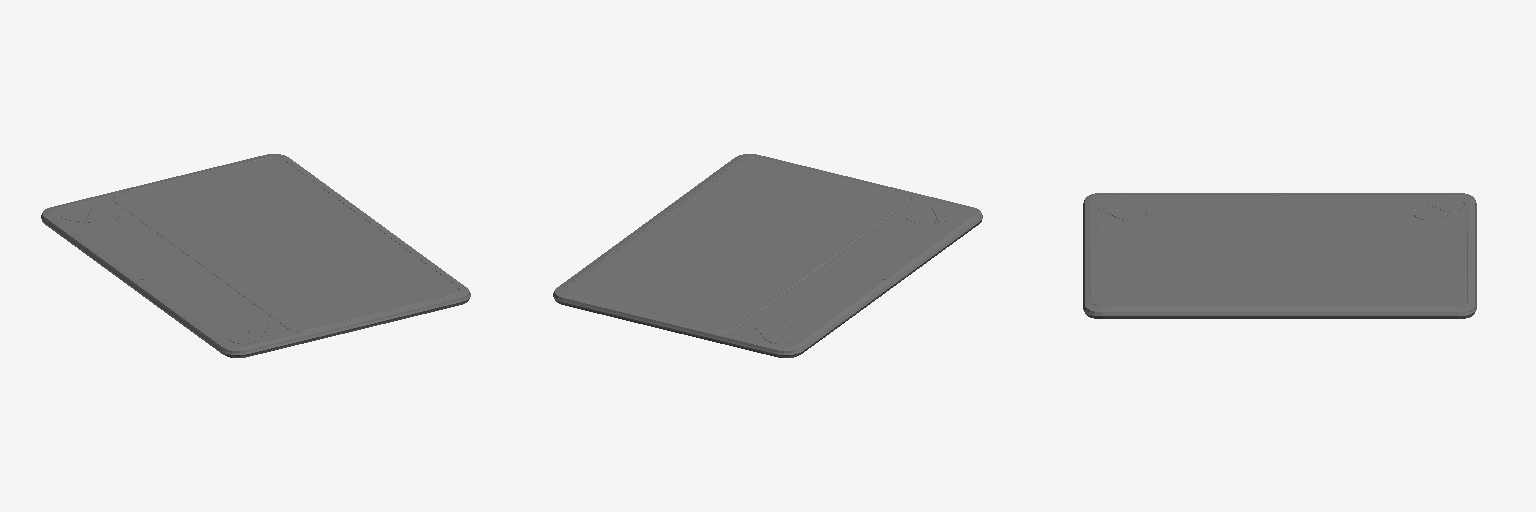
The model's file is tablet.obj.
3 renders of one model, left to right at view 1: azimuth 30°, elevation 25°; view 2: azimuth 150°, elevation 25°; view 3: azimuth 270°, elevation 25°, orthographic.
Parts seen in each view (by area): view 1: tablet:polySurface7; view 2: tablet:polySurface7; view 3: tablet:polySurface7.
Boxes of the visible parts, x1=… form: tablet:polySurface7: x1=41, y1=154, x2=470, y2=357; tablet:polySurface7: x1=553, y1=154, x2=982, y2=357; tablet:polySurface7: x1=1083, y1=193, x2=1476, y2=318.
Bounding box in the file's own units: 1.48 × 0.0505 × 2.03.